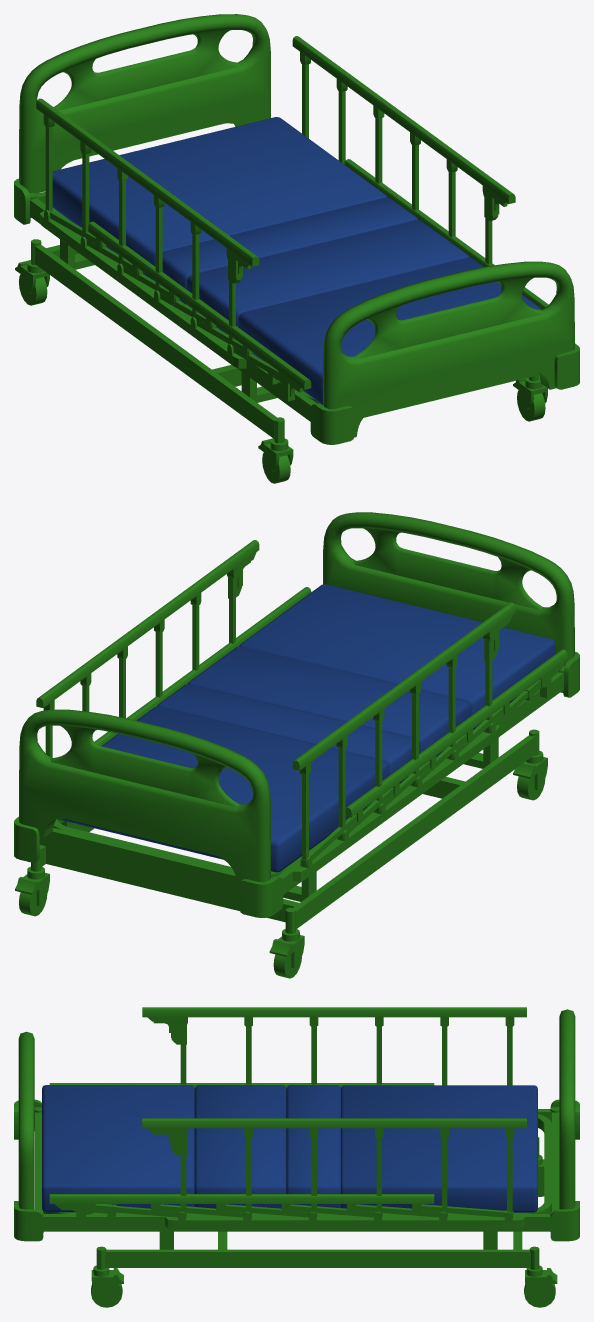
File: HospitalBed_02.fbx
3 renders of one model, top to bottom at view 1: azimuth 30°, elevation 25°; view 2: azimuth 150°, elevation 25°; view 3: azimuth 270°, elevation 25°, orthographic. The views are drawn at different scales.
Parts seen in each view (by area): view 1: HospitalBed_01, Top, Guard_L_On (×2), Guard_R_On, Guard_R_Off; view 2: HospitalBed_01, Top, Guard_L_On (×2), Guard_R_On, Guard_R_Off; view 3: HospitalBed_01, Top, Guard_L_On (×2), Guard_R_On, Guard_R_Off.
Part boxes in pixels (x1,y1,x2,y2): HospitalBed_01: (14,14,579,483); Top: (52,117,387,281); Guard_L_On (×2): (292,36,548,309); Guard_R_On: (36,98,259,353); Guard_R_Off: (49,211,311,401); HospitalBed_01: (14,512,579,978); Top: (57,706,388,872); Guard_L_On (×2): (36,540,311,757); Guard_R_On: (292,602,515,867); Guard_R_Off: (301,649,567,866); HospitalBed_01: (14,1009,579,1307); Top: (341,1085,537,1212); Guard_L_On (×2): (49,1118,526,1224); Guard_R_On: (142,1007,526,1085); Guard_R_Off: (49,1083,434,1088).
Bounding box in the file's own units: 109 × 89.09 × 221.
